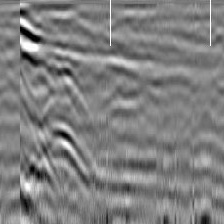Utility: (29, 121, 93, 187)
